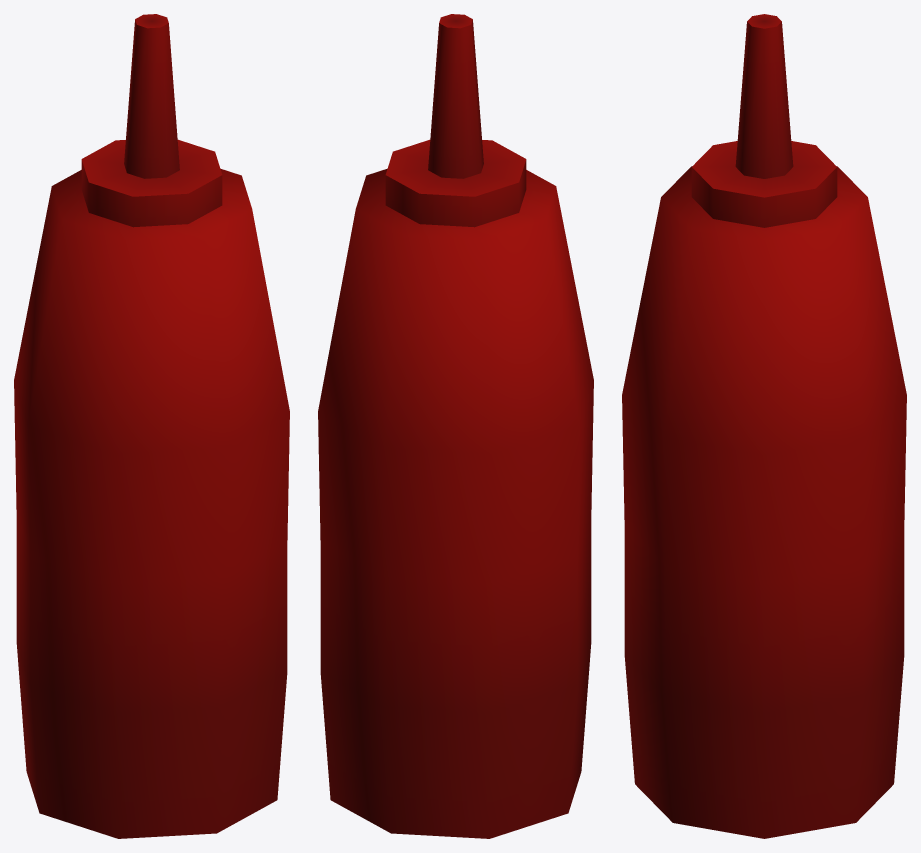
File: H&J_Ketchup.fbx
3 views of the same model, side by side, from view 1: azimuth 30°, elevation 25°; view 2: azimuth 150°, elevation 25°; view 3: azimuth 270°, elevation 25° (orthographic).
Parts seen in each view (by area): view 1: LAGS_PoteKetchup; view 2: LAGS_PoteKetchup; view 3: LAGS_PoteKetchup.
Part boxes in pixels (bbox=[...]): LAGS_PoteKetchup: bbox=[14, 14, 289, 838]; LAGS_PoteKetchup: bbox=[318, 14, 593, 838]; LAGS_PoteKetchup: bbox=[622, 14, 906, 838].
Bounding box in the file's own units: 8.8 × 25.99 × 8.8.
